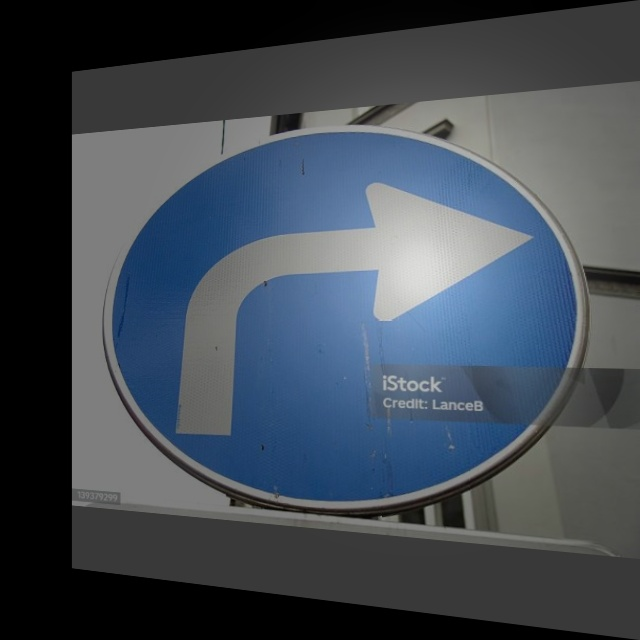Compulsory_Turn_Right_Ahead: (112, 106, 569, 513)
